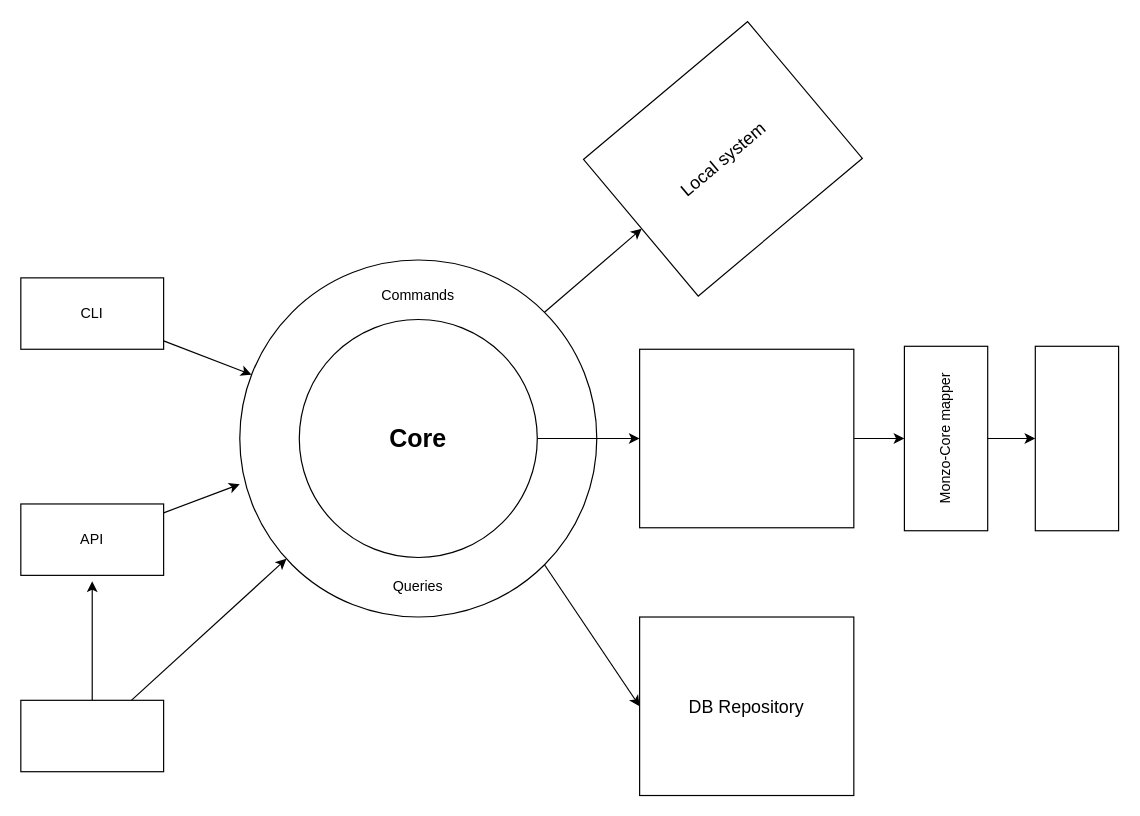
This 1140x816 diagram has some shape labels left out. The shapes that lost their labels are listed below. From the top down, each one's centre as x and y in pixels, then its label:
point 746,438: Monzo Repository
point 1076,438: Monzo Gateway
point 92,735: App
